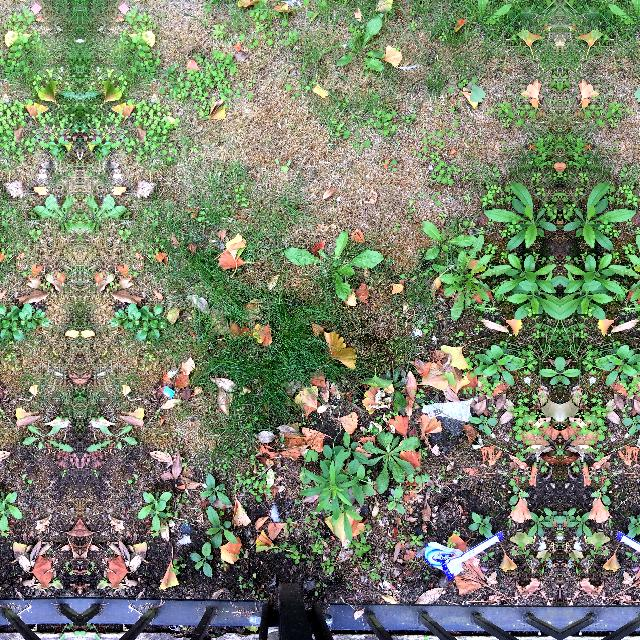Paper: (420, 395, 476, 423)
Plastic: (412, 524, 514, 588), (606, 524, 640, 587)
